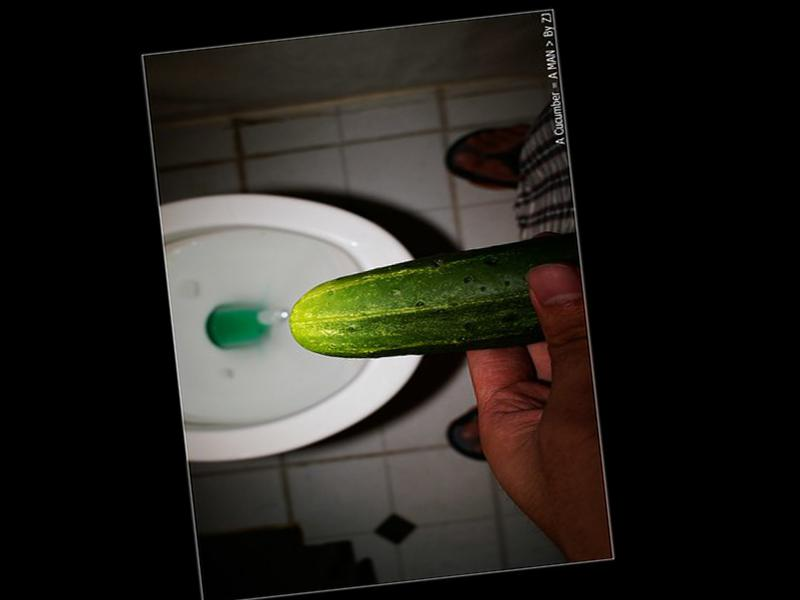Cucumber: (283, 232, 592, 368)
